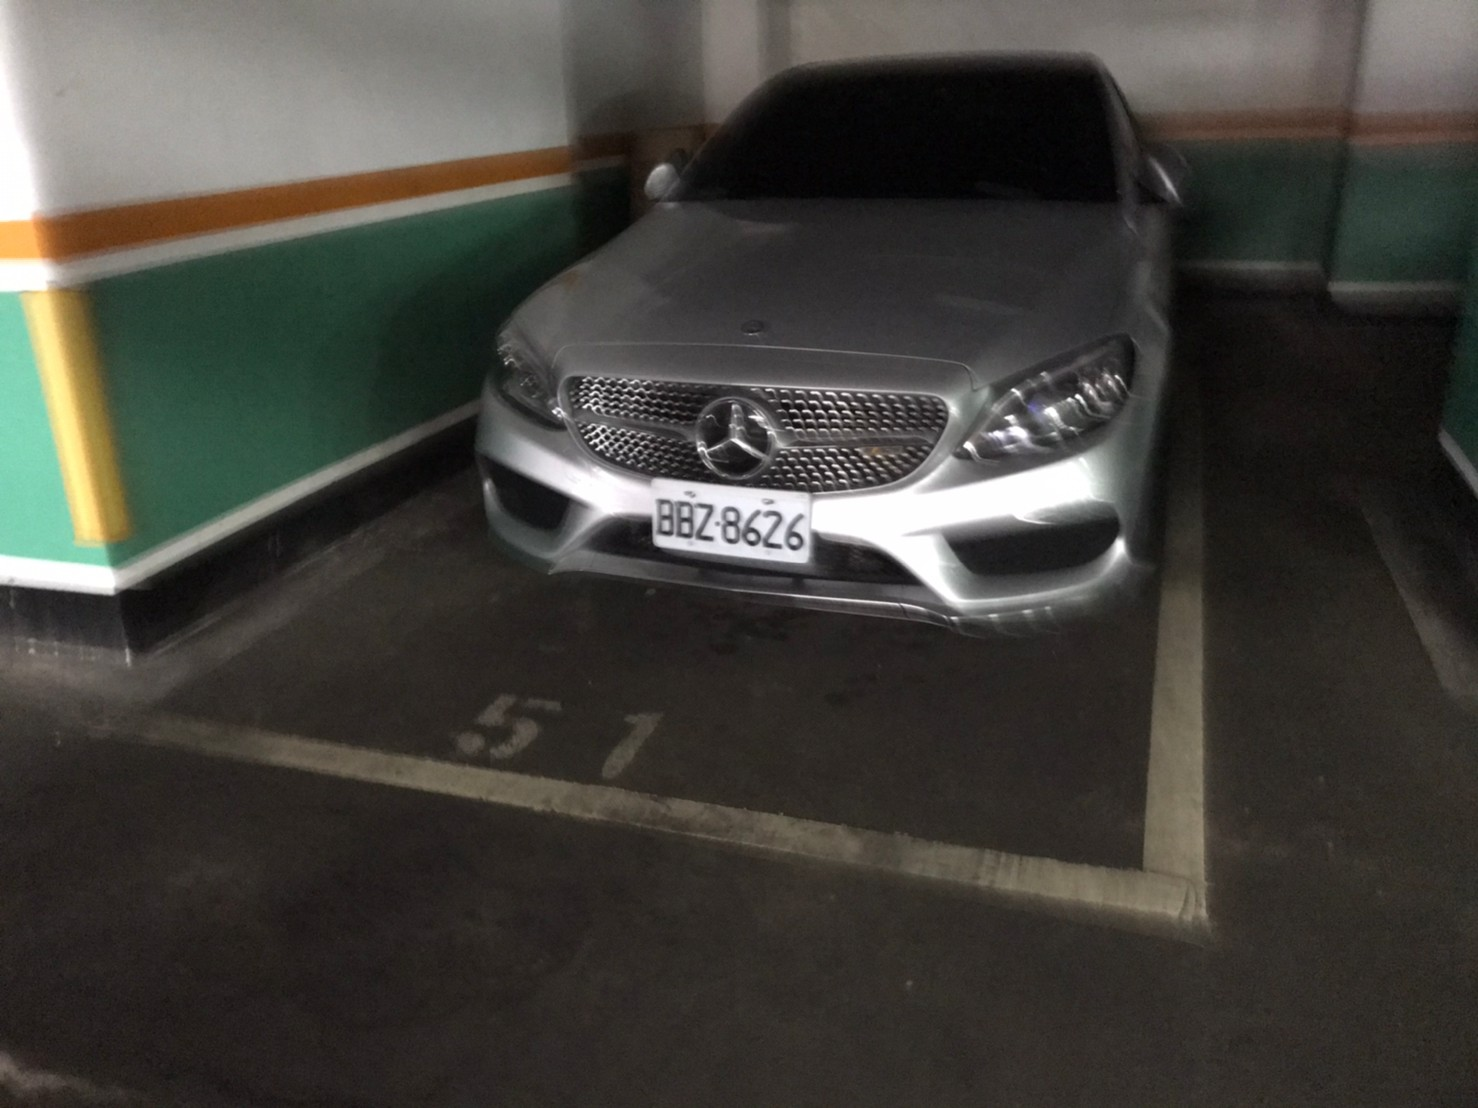LP: (651, 486, 809, 557)
